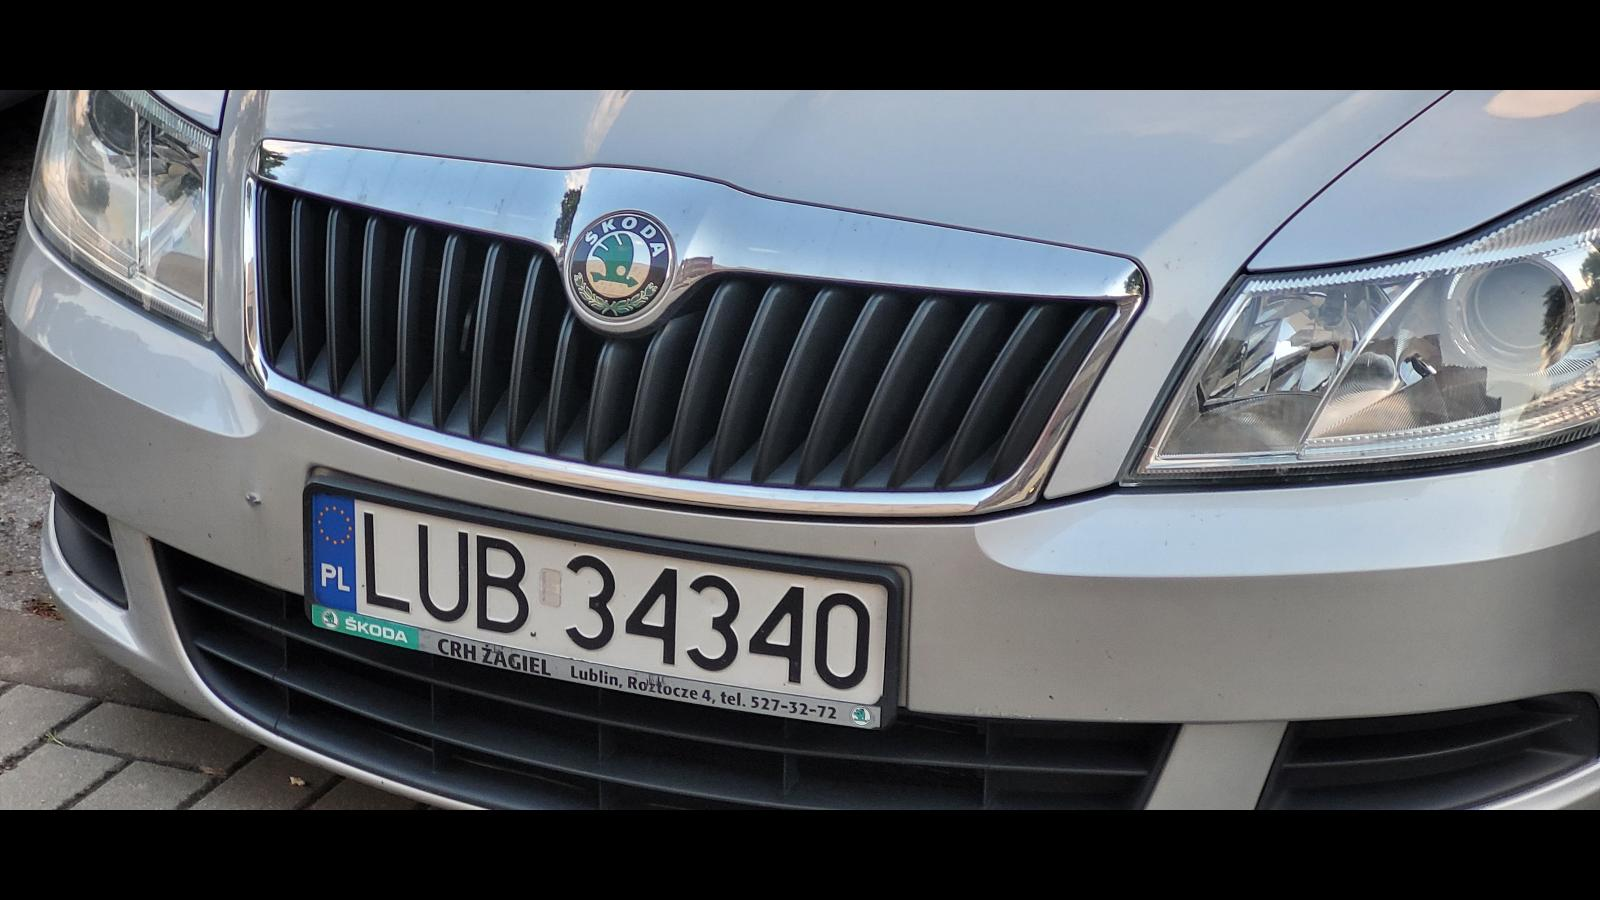plates: (303, 477, 904, 730)
